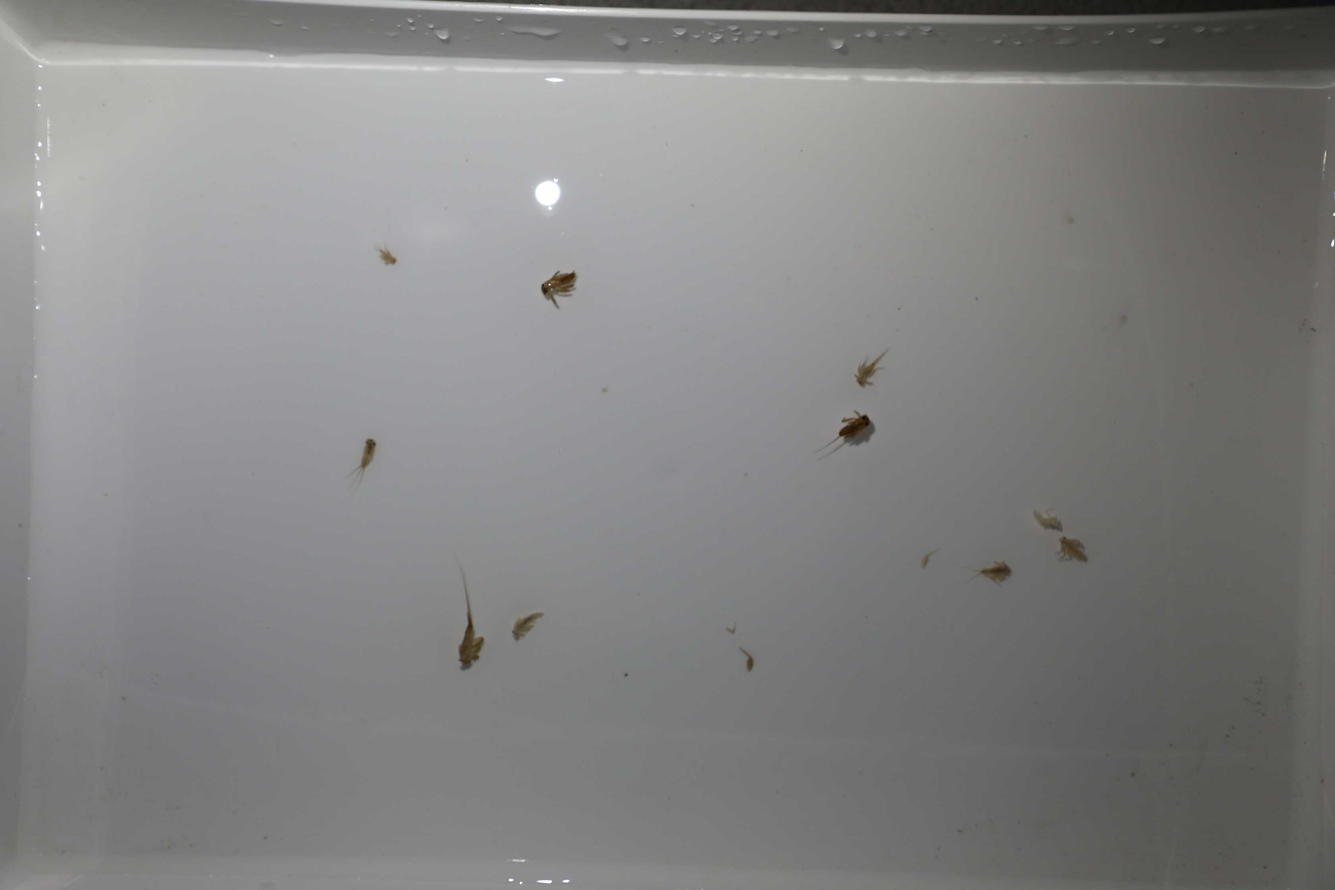Mayfly: (446, 533, 484, 675), (811, 409, 875, 466), (844, 338, 897, 395), (528, 264, 586, 310), (348, 424, 380, 482), (507, 601, 552, 642), (1053, 533, 1103, 566), (969, 555, 1017, 588), (365, 239, 409, 274), (1020, 507, 1073, 533)
